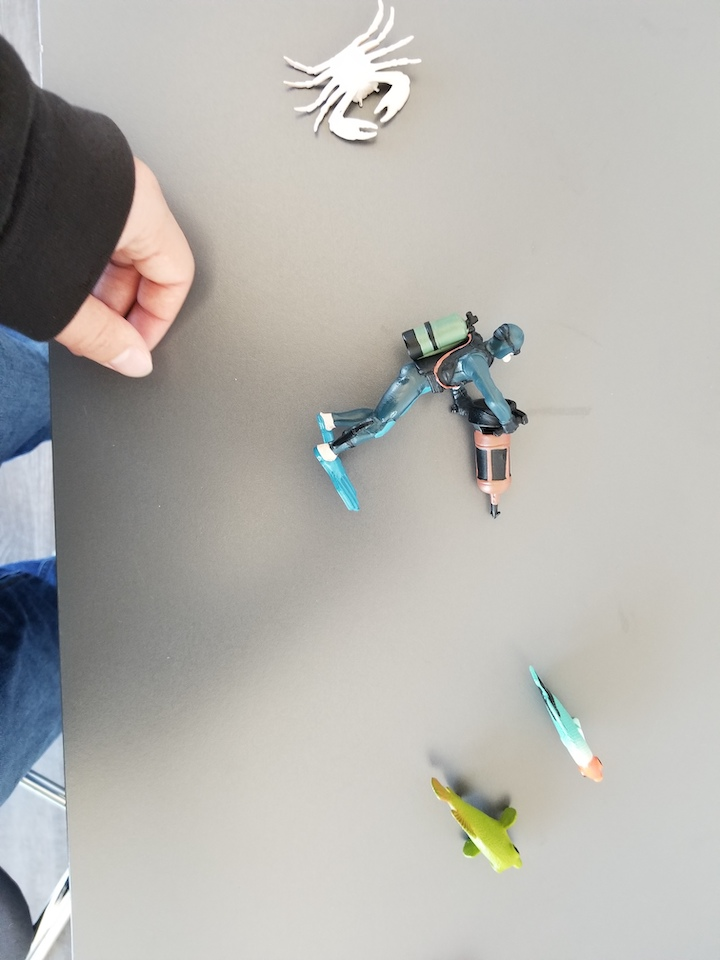crab: (279, 1, 425, 147)
diver: (316, 312, 531, 525)
fish: (427, 772, 532, 877), (523, 663, 611, 786)
